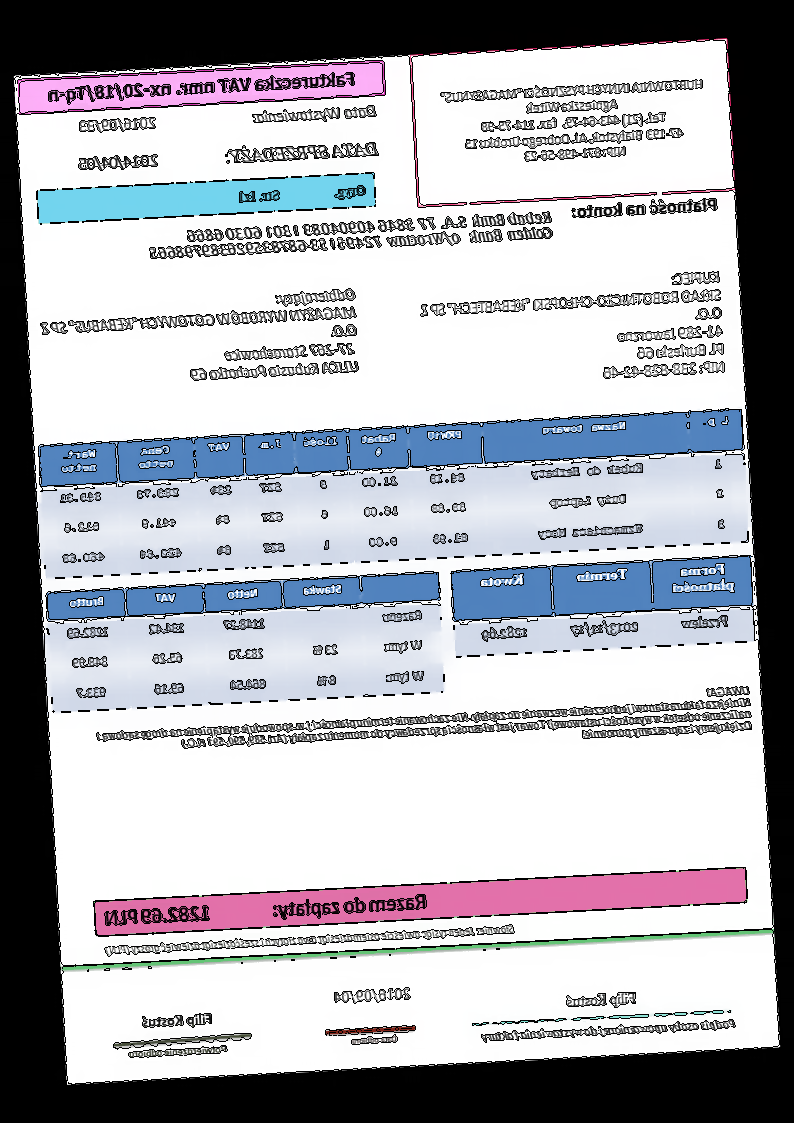Table: (37, 405, 750, 582), (44, 570, 447, 716), (451, 554, 757, 659)
TextBox: (92, 680, 756, 768), (417, 265, 729, 394), (35, 285, 362, 394), (438, 75, 712, 170), (145, 208, 557, 264), (104, 918, 519, 958), (101, 887, 430, 932), (46, 69, 361, 106), (476, 1016, 739, 1046), (224, 136, 382, 168), (570, 193, 724, 223), (236, 179, 372, 208), (251, 99, 382, 127), (75, 148, 163, 175), (329, 980, 414, 1007), (127, 1041, 230, 1061), (136, 1008, 217, 1031), (565, 987, 641, 1011), (76, 114, 160, 135), (347, 1030, 403, 1048)
